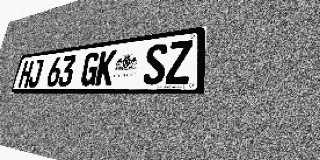3: (57, 55, 77, 87)
6: (45, 56, 64, 87)
G: (80, 51, 101, 86)
H: (18, 60, 34, 87)
J: (27, 59, 44, 87)
K: (95, 49, 117, 86)
S: (142, 43, 168, 85)
Z: (165, 40, 193, 84)
